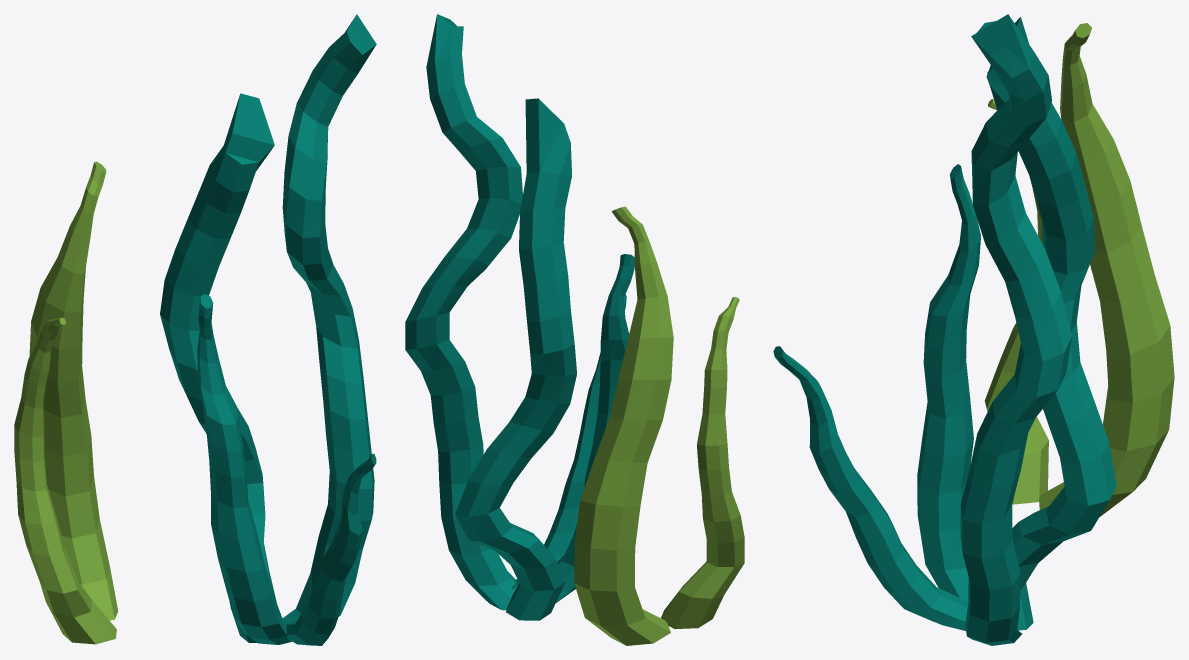
Rendered from modelDraco.gltf.
The picture shows the model from 3 angles, left to right: view 1: azimuth 30°, elevation 25°; view 2: azimuth 150°, elevation 25°; view 3: azimuth 270°, elevation 25°; orthographic projection. The views are drawn at different scales.
Parts seen in each view (by area): view 1: node_MeshObject-1365324608-PolyPaper11; view 2: node_MeshObject-1365324608-PolyPaper11; view 3: node_MeshObject-1365324608-PolyPaper11.
Boxes of the visible parts, x1,y1,x2,y2 form: node_MeshObject-1365324608-PolyPaper11: (14, 14, 376, 645); node_MeshObject-1365324608-PolyPaper11: (405, 14, 744, 645); node_MeshObject-1365324608-PolyPaper11: (773, 14, 1174, 645).
Size of the model in its own units: 0.4831 by 0.8166 by 0.4484.
